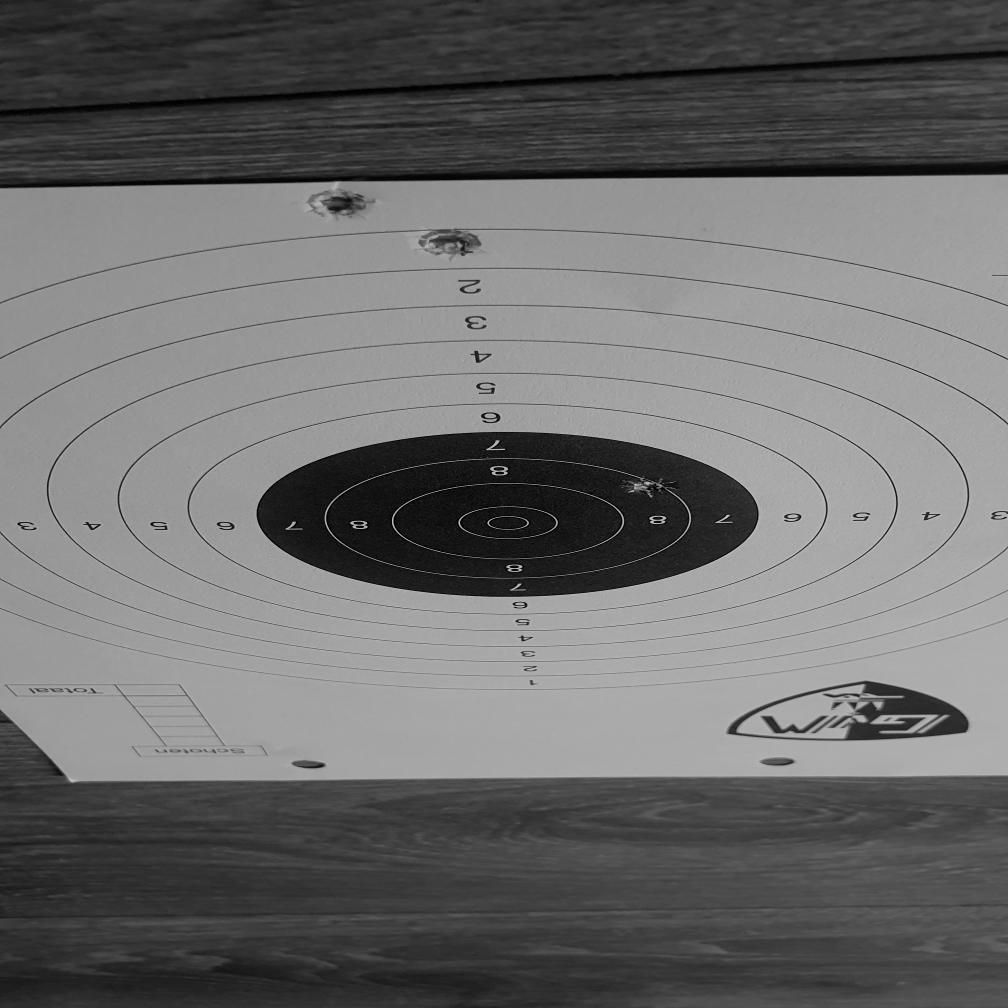0: (294, 185, 385, 222)
1: (413, 228, 490, 260)
8: (624, 478, 681, 496)
Target: (0, 224, 1008, 694)
black_contour: (254, 432, 756, 598)
